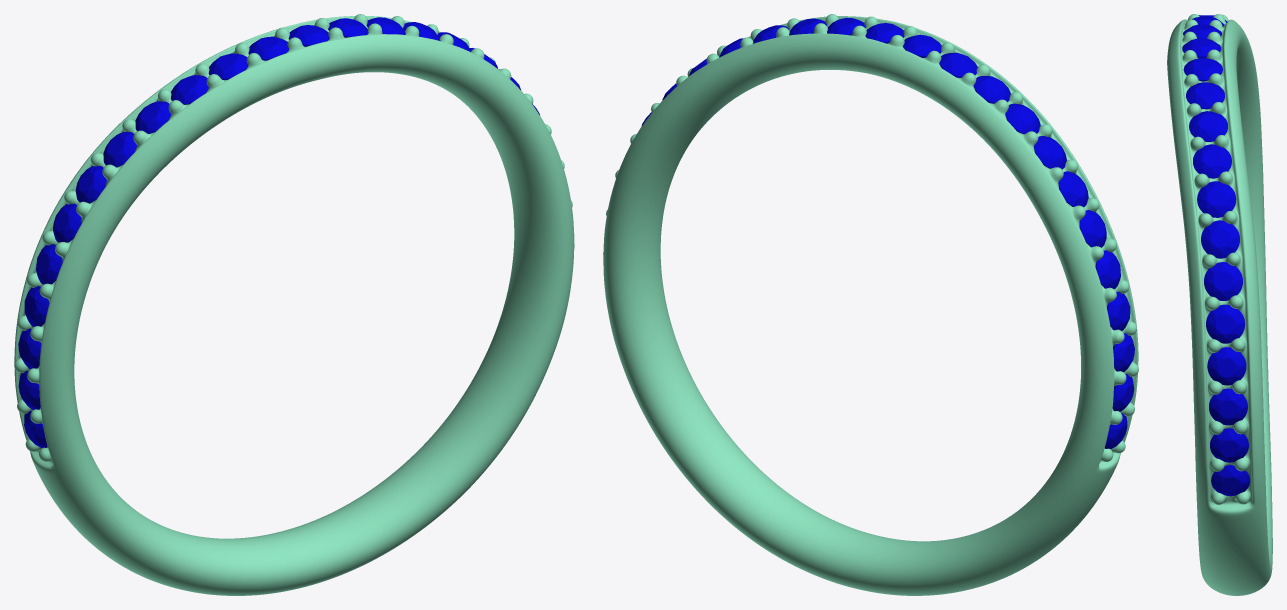
3 renders of one model, left to right at view 1: azimuth 30°, elevation 25°; view 2: azimuth 150°, elevation 25°; view 3: azimuth 270°, elevation 25°, orthographic. The views are drawn at different scales.
Parts seen in each view (by area): view 1: Metal03, Diamond_Band.019, Diamond_Band.020, Diamond_Band.014, Diamond_Band.021, Diamond_Band.022, Diamond_Band.015, Diamond_Band.016, Diamond_Band.023; view 2: Metal03, Diamond_Band.019, Diamond_Band.020, Diamond_Band.021, Diamond_Band.014, Diamond_Band.022, Diamond_Band.015, Diamond_Band.023, Diamond_Band.016; view 3: Metal03, Diamond_Band.007, Diamond_Band.006, Diamond_Band.005, Diamond_Band.008, Diamond_Band.004, Diamond_Band.011, Diamond_Band.010, Diamond_Band.003, Diamond_Band.009, Diamond_Band.002, Diamond_Band.001 (+4 smaller).
Part boxes in pixels (left/top/right/bottom): Metal03: left=14, top=14, right=574, bottom=595; Diamond_Band.019: left=75, top=166, right=106, bottom=203; Diamond_Band.020: left=103, top=131, right=136, bottom=167; Diamond_Band.014: left=53, top=203, right=81, bottom=242; Diamond_Band.021: left=135, top=101, right=170, bottom=133; Diamond_Band.022: left=170, top=75, right=208, bottom=104; Diamond_Band.015: left=36, top=244, right=62, bottom=284; Diamond_Band.016: left=24, top=286, right=49, bottom=326; Diamond_Band.023: left=208, top=53, right=248, bottom=80; Metal03: left=603, top=14, right=1138, bottom=595; Diamond_Band.019: left=1058, top=171, right=1088, bottom=207; Diamond_Band.020: left=1033, top=136, right=1066, bottom=169; Diamond_Band.021: left=1005, top=103, right=1040, bottom=134; Diamond_Band.014: left=1079, top=210, right=1106, bottom=247; Diamond_Band.022: left=973, top=76, right=1010, bottom=103; Diamond_Band.015: left=1095, top=250, right=1120, bottom=289; Diamond_Band.023: left=939, top=52, right=977, bottom=77; Diamond_Band.016: left=1107, top=291, right=1130, bottom=330; Metal03: left=1167, top=14, right=1272, bottom=595; Diamond_Band.007: left=1206, top=304, right=1244, bottom=343; Diamond_Band.006: left=1204, top=262, right=1242, bottom=300; Diamond_Band.005: left=1201, top=220, right=1239, bottom=258; Diamond_Band.008: left=1207, top=347, right=1246, bottom=385; Diamond_Band.004: left=1197, top=181, right=1236, bottom=217; Diamond_Band.011: left=1209, top=388, right=1247, bottom=425; Diamond_Band.010: left=1210, top=428, right=1248, bottom=462; Diamond_Band.003: left=1193, top=144, right=1231, bottom=178; Diamond_Band.009: left=1211, top=465, right=1250, bottom=496; Diamond_Band.002: left=1189, top=111, right=1227, bottom=141; Diamond_Band.001: left=1186, top=82, right=1224, bottom=109.
Size of the model in its own units: 20.85 by 20.84 by 3.79.
